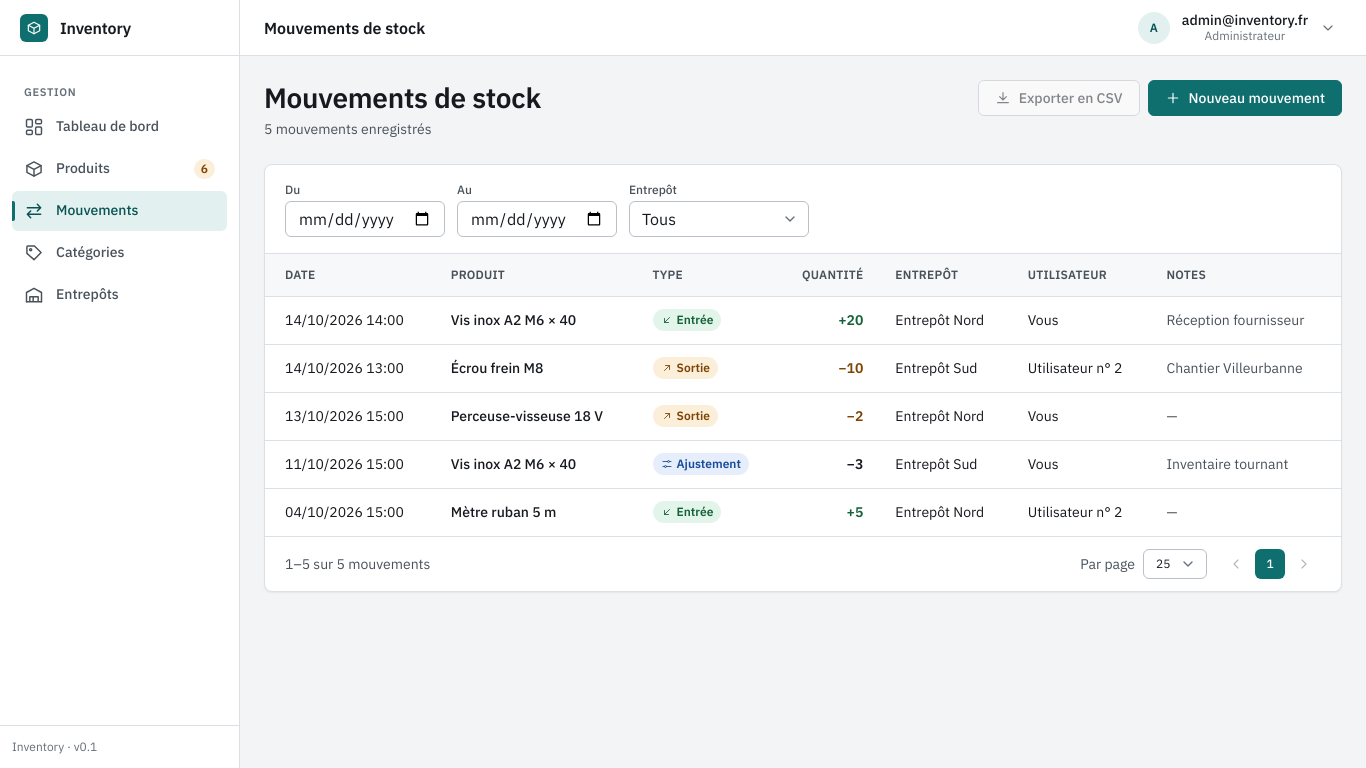
MovementsPage › lets an Admin record a movement
Expected: the heading "Mouvements de stock" is shown, [264, 80, 541, 115]
What coordinates should you click on to do the following:
click the button "Nouveau mouvement"
I would click on:
 (1245, 98)
Its box is [1148, 80, 1342, 116].
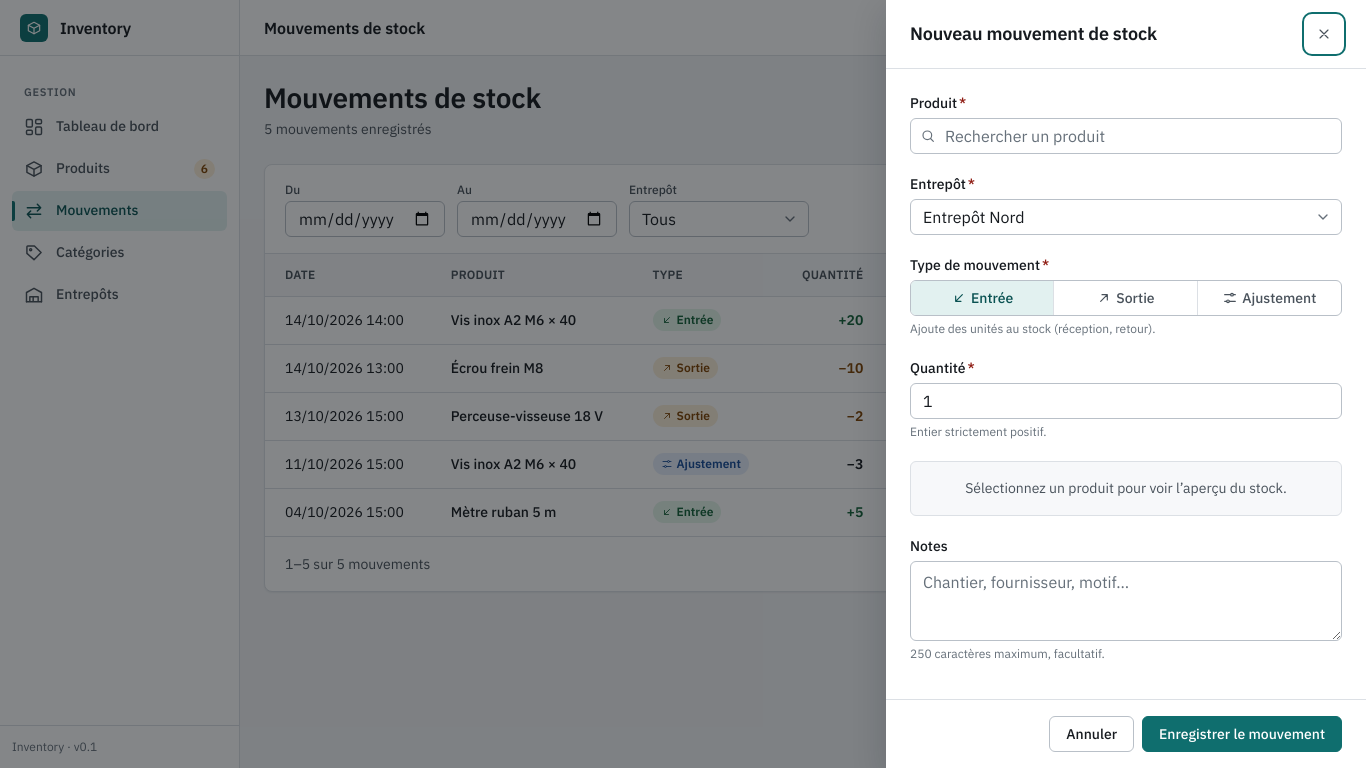
Expected: the dialog "Nouveau mouvement de stock" is shown, [886, 0, 1365, 767]
